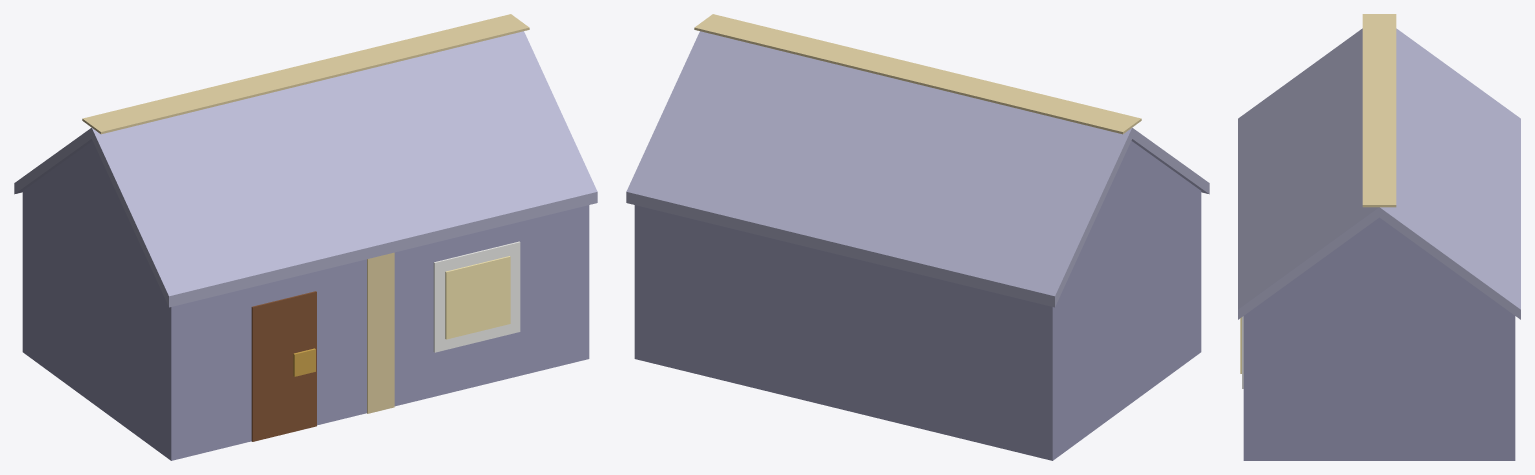
Rendered from rental_nook.glb.
The picture shows the model from 3 angles, left to right: view 1: azimuth 30°, elevation 25°; view 2: azimuth 150°, elevation 25°; view 3: azimuth 270°, elevation 25°; orthographic projection. The views are drawn at different scales.
Visible parts, largest first — view 1: rental_nook_Body; view 2: rental_nook_Body; view 3: rental_nook_Body.
Part boxes in pixels (x1,y1,x2,y2): rental_nook_Body: (14,14,597,460); rental_nook_Body: (626,14,1209,460); rental_nook_Body: (1238,14,1520,460).
Bounding box in the file's own units: 0.8 × 0.504 × 0.5.
